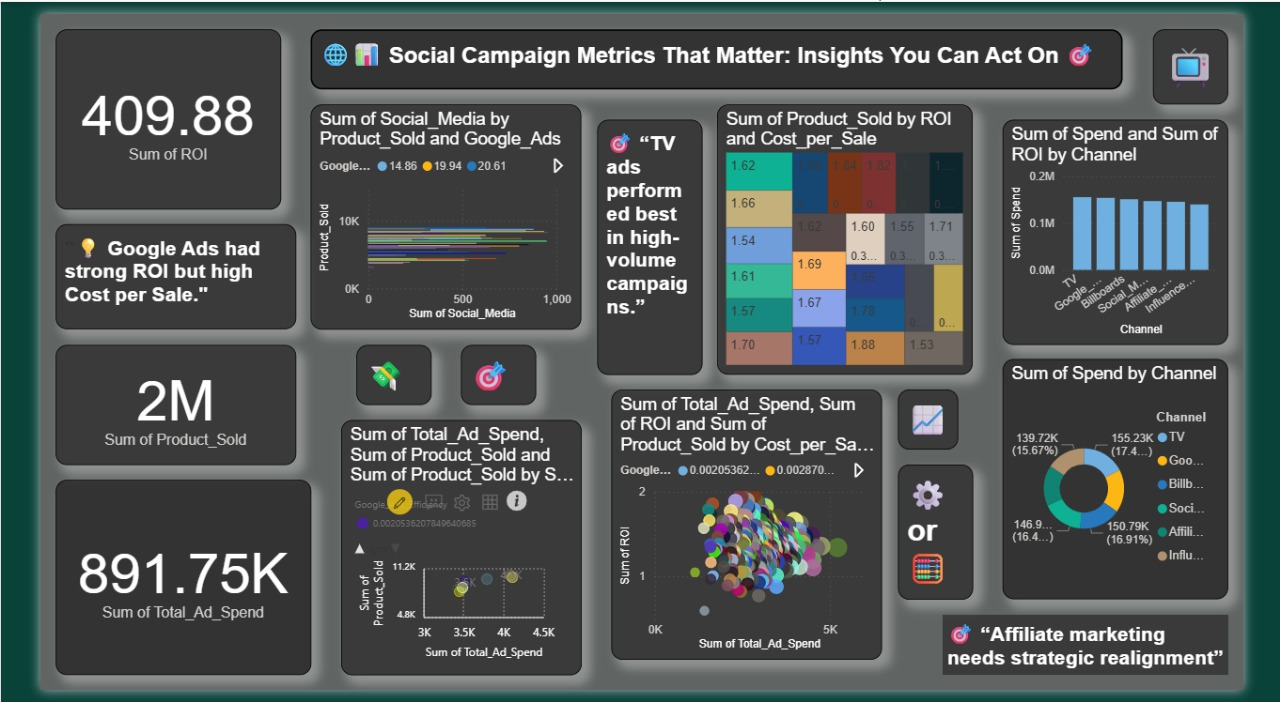

What the dashboard file says about the page in this screenshot:
{"tool":"powerbi","page":{"name":"Page 1","canvas":[1280,720],"ordinal":0},"visuals":[{"type":"card","fields":{"Values":["Sum(Cleaned_AdCampaign.Total_Ad_Spend)"]},"box":[16,496,272,208],"z":0},{"type":"performanceBubbleChartFBAAA829CB604E5CAB4F21729F233294","fields":{"xmeasure":["Sum(Cleaned_AdCampaign.Total_Ad_Spend)"],"zmeasure":["Sum(Cleaned_AdCampaign.Product_Sold)"],"legend":["Cleaned_AdCampaign.Google_Ads_Efficiency"],"category":["Cleaned_AdCampaign.Social_Media_Efficiency"],"ymeasure":["Sum(Advertising_Data.Product_Sold)"]},"box":[320,432,256,272],"z":1000},{"type":"card","fields":{"Values":["Sum(Cleaned_AdCampaign.Product_Sold)"]},"box":[16,352,256,128],"z":2000},{"type":"card","fields":{"Values":["Sum(Cleaned_AdCampaign.ROI)"]},"box":[16,16,240,192],"z":3000},{"type":"barChart","fields":{"Y":["Sum(Advertising_Data.Social_Media)"],"Category":["Cleaned_AdCampaign.Product_Sold"],"Series":["Advertising_Data.Google_Ads"]},"box":[288,96,288,240],"z":4000},{"type":"scatterChart","fields":{"X":["Sum(Cleaned_AdCampaign.Total_Ad_Spend)"],"Y":["Sum(Cleaned_AdCampaign.ROI)"],"Category":["Cleaned_AdCampaign.Cost_per_Sale"],"Series":["Cleaned_AdCampaign.Google_Ads_Efficiency"],"Size":["Sum(Advertising_Data.Product_Sold)"]},"box":[608,400,288,288],"z":5000},{"type":"textbox","box":[16,224,256,112],"z":6000},{"type":"treemap","fields":{"Values":["Sum(Advertising_Data.Product_Sold)"],"Group":["Cleaned_AdCampaign.ROI"],"Details":["Cleaned_AdCampaign.Cost_per_Sale"]},"box":[720,96,272,288],"z":8000},{"type":"columnChart","fields":{"Category":["ChannelSpend.Channel"],"Y":["Sum(ChannelSpend.Spend)"]},"box":[1024,112,240,240],"z":9000},{"type":"donutChart","fields":{"Category":["ChannelSpend.Channel"],"Y":["Sum(ChannelSpend.Spend)"]},"box":[1024,368,240,256],"z":10000},{"type":"textbox","box":[592,112,112,272],"z":11000},{"type":"textbox","box":[288,16,864,64],"z":12000},{"type":"textbox","box":[960,640,304,64],"z":12001},{"type":"textbox","box":[912,400,64,64],"z":12002},{"type":"textbox","box":[1184,16,80,80],"z":12003},{"type":"textbox","box":[336,352,80,64],"z":12004},{"type":"textbox","box":[448,352,80,64],"z":12005},{"type":"textbox","box":[912,480,80,144],"z":12006}]}

Visuals, with their boxes in screenshot pixels (x1, y1, x2, y2), scaled from the page's 1280x720 canvas onto the 1280x702 screenshot:
card - Sum(Cleaned_AdCampaign.Total_Ad_Spend): bbox=(16, 484, 288, 686)
performanceBubbleChartFBAAA829CB604E5CAB4F21729F233294 - Sum(Cleaned_AdCampaign.Total_Ad_Spend) x Sum(Cleaned_AdCampaign.Product_Sold): bbox=(320, 421, 576, 686)
card - Sum(Cleaned_AdCampaign.Product_Sold): bbox=(16, 343, 272, 468)
card - Sum(Cleaned_AdCampaign.ROI): bbox=(16, 16, 256, 203)
barChart - Sum(Advertising_Data.Social_Media) x Cleaned_AdCampaign.Product_Sold: bbox=(288, 94, 576, 328)
scatterChart - Sum(Cleaned_AdCampaign.Total_Ad_Spend) x Sum(Cleaned_AdCampaign.ROI): bbox=(608, 390, 896, 671)
textbox: bbox=(16, 218, 272, 328)
treemap - Sum(Advertising_Data.Product_Sold) x Cleaned_AdCampaign.ROI: bbox=(720, 94, 992, 374)
columnChart - ChannelSpend.Channel x Sum(ChannelSpend.Spend): bbox=(1024, 109, 1264, 343)
donutChart - ChannelSpend.Channel x Sum(ChannelSpend.Spend): bbox=(1024, 359, 1264, 608)
textbox: bbox=(592, 109, 704, 374)
textbox: bbox=(288, 16, 1152, 78)
textbox: bbox=(960, 624, 1264, 686)
textbox: bbox=(912, 390, 976, 452)
textbox: bbox=(1184, 16, 1264, 94)
textbox: bbox=(336, 343, 416, 406)
textbox: bbox=(448, 343, 528, 406)
textbox: bbox=(912, 468, 992, 608)
